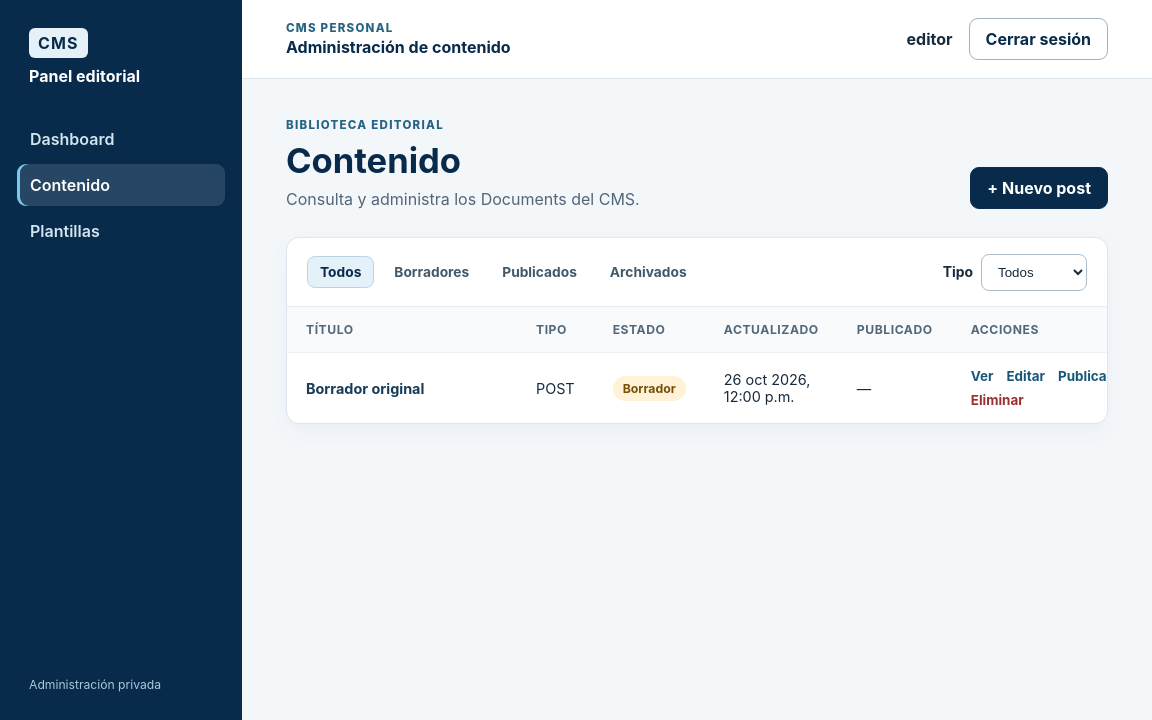
Test: Listado de Documents › Publicar desde la lista abre el detalle y pide confirmación
The width and height of the screenshot is (1152, 720).
Click the link "Publicar": (1085, 376) [1058,368,1112,384]
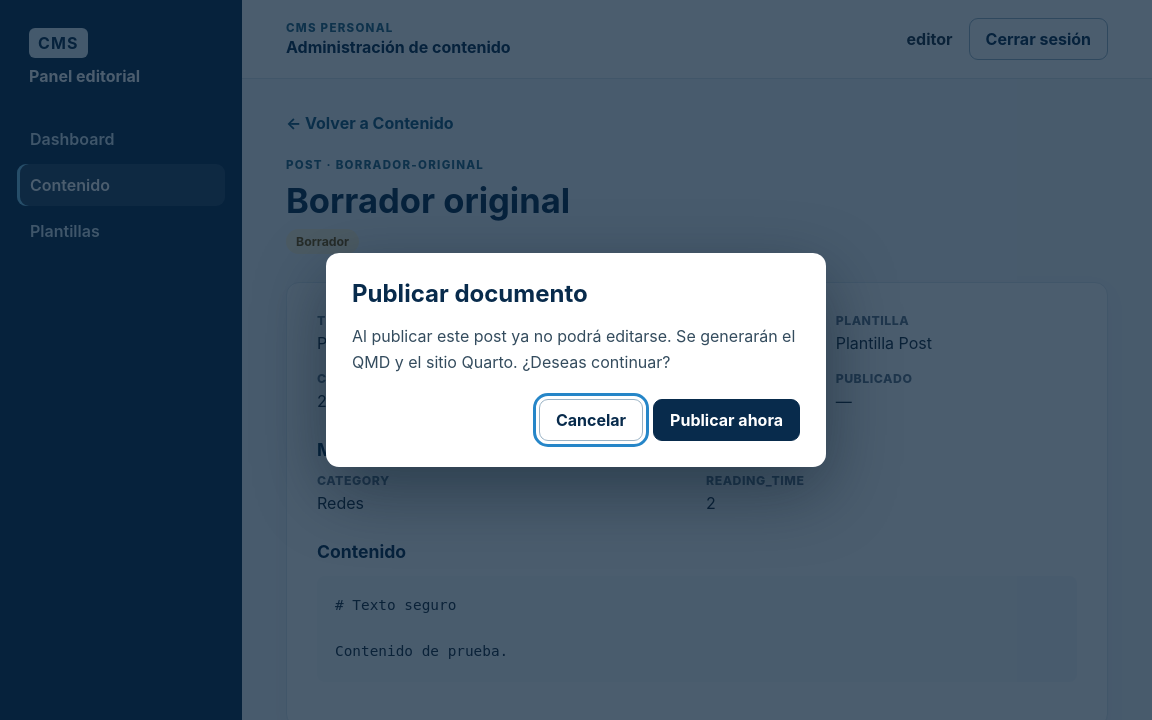
Check: the dialog "Publicar documento" is shown, box [326,253,826,467]
